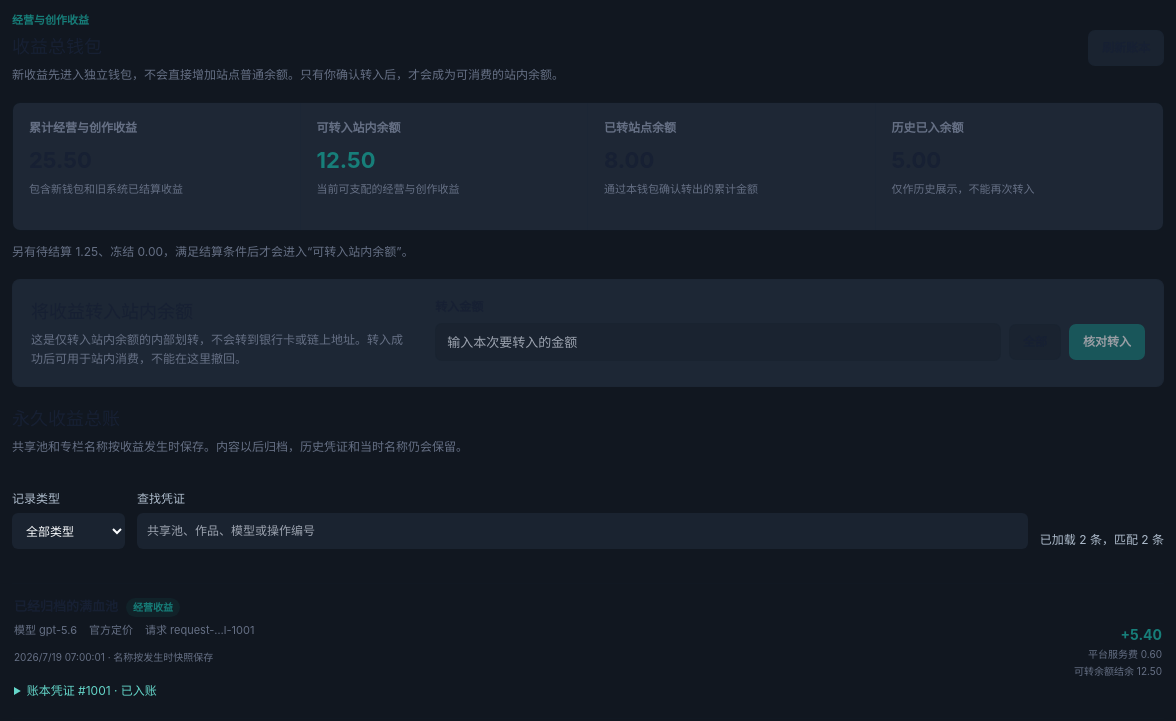
Test: SharedPoolOwnerWalletPanel › requires a second confirmation and reuses the same operation id after a failed response
Type "4.25" into the number field with test id "wallet-transfer-input".
click(718, 342); type("4.25")  # box [435,323,1001,361]
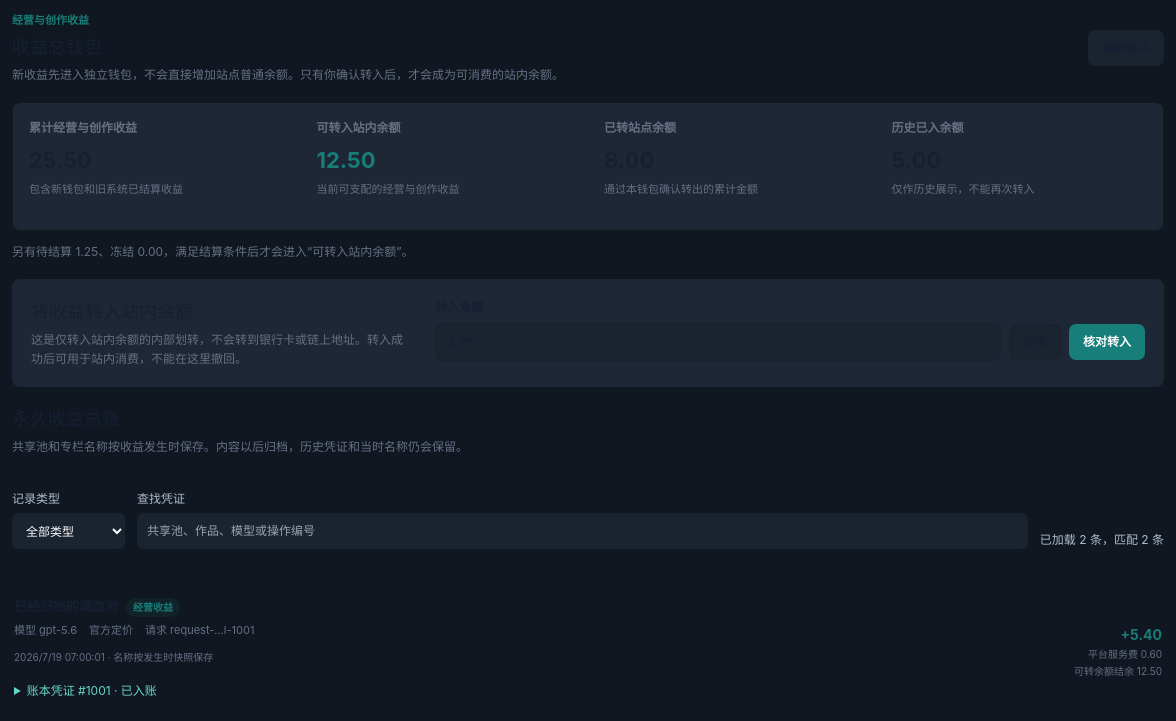
Click the button with test id "wallet-transfer-review".
click(1107, 342)  # box [1069,324,1145,360]
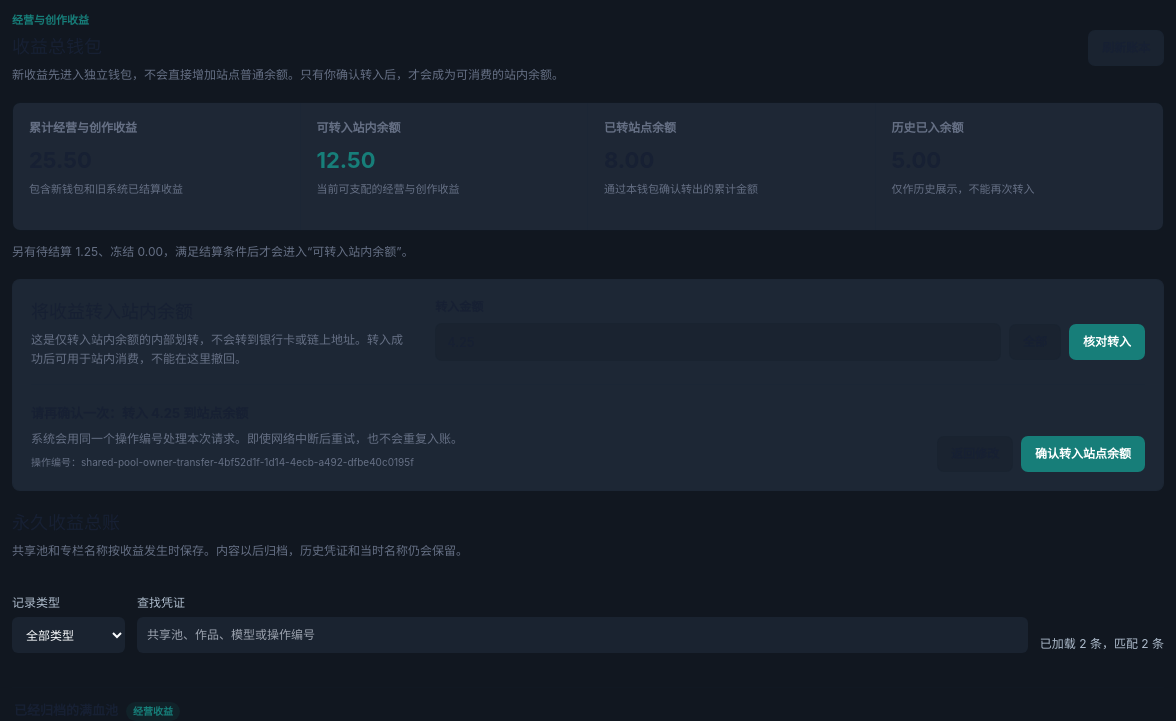
Click the button with test id "wallet-transfer-confirm".
click(1083, 454)  # box [1021,436,1145,472]
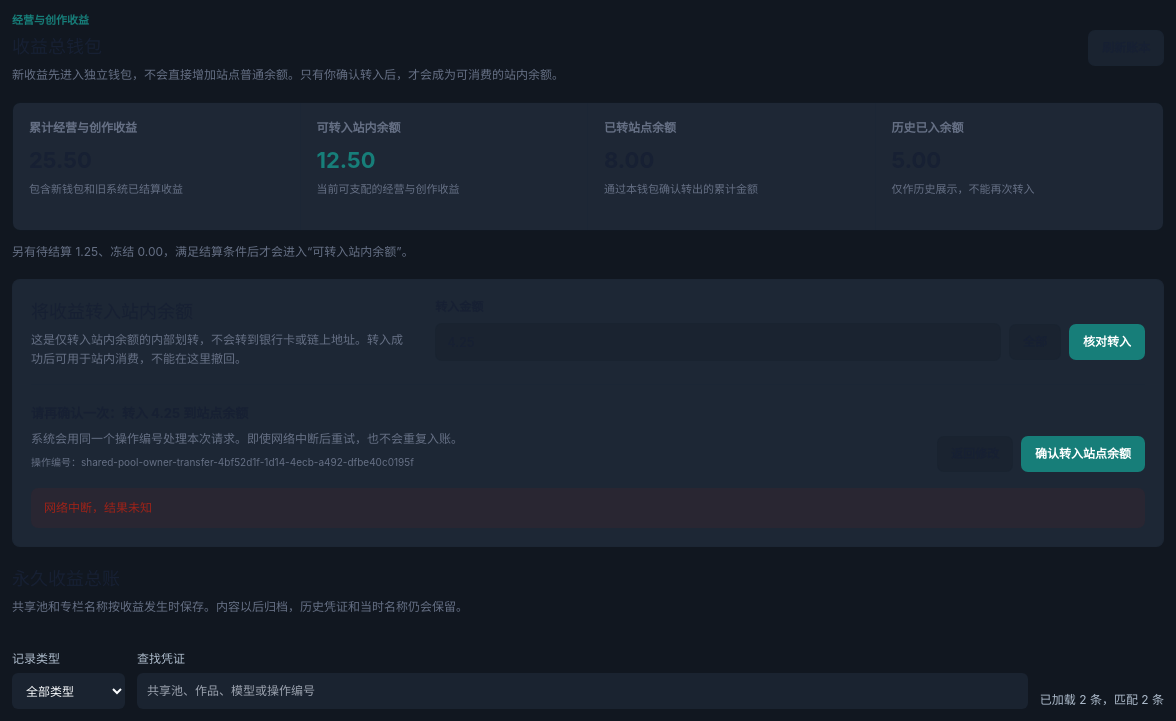
Result: the text "网络中断，结果未知" is shown at [31,488,1145,528]
Click the button with test id "wallet-transfer-confirm".
click(1083, 454)  # box [1021,436,1145,472]
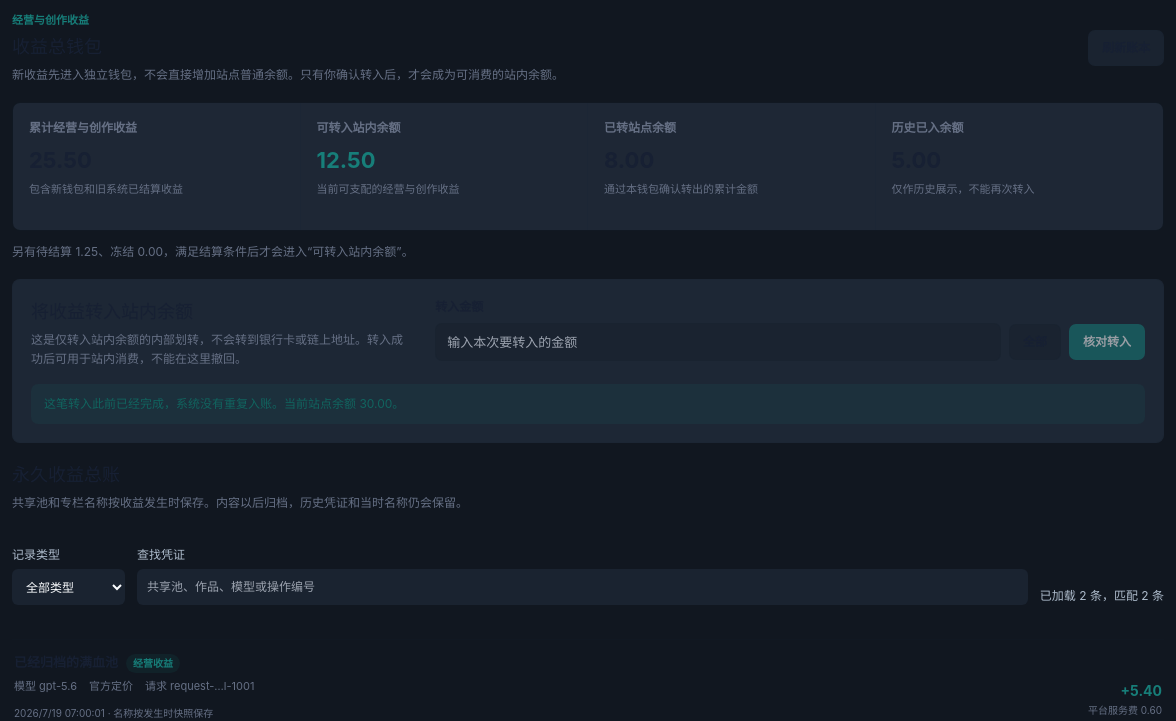
Result: the text "此前已经完成" is shown at [44,396,404,411]
